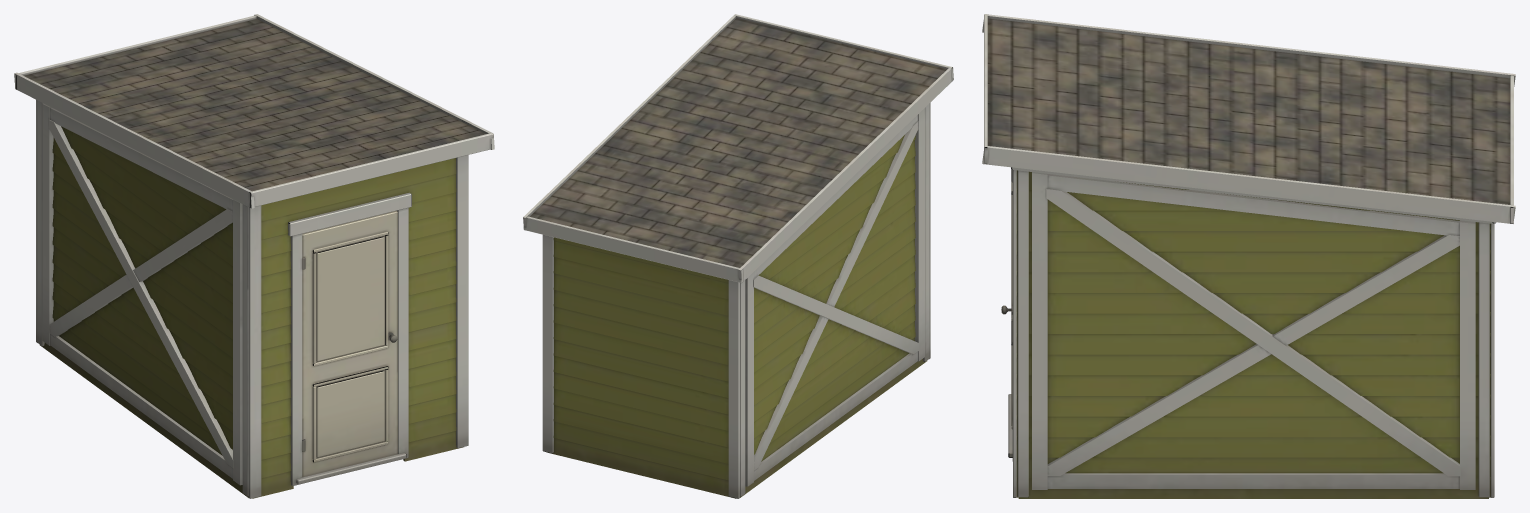
Rendered from shed_yellow.glb.
3 views of the same model, side by side, from view 1: azimuth 30°, elevation 25°; view 2: azimuth 150°, elevation 25°; view 3: azimuth 270°, elevation 25° (orthographic). The views are drawn at different scales.
Visible parts, largest first — view 1: shed_yellow; view 2: shed_yellow; view 3: shed_yellow.
Part boxes in pixels (box(x1,y1,x2,y2)): shed_yellow: box(14, 14, 494, 498); shed_yellow: box(523, 14, 953, 498); shed_yellow: box(982, 14, 1515, 498).
Bounding box in the file's own units: 2.01 × 2.53 × 3.4.
3 materials, 3 textured.
